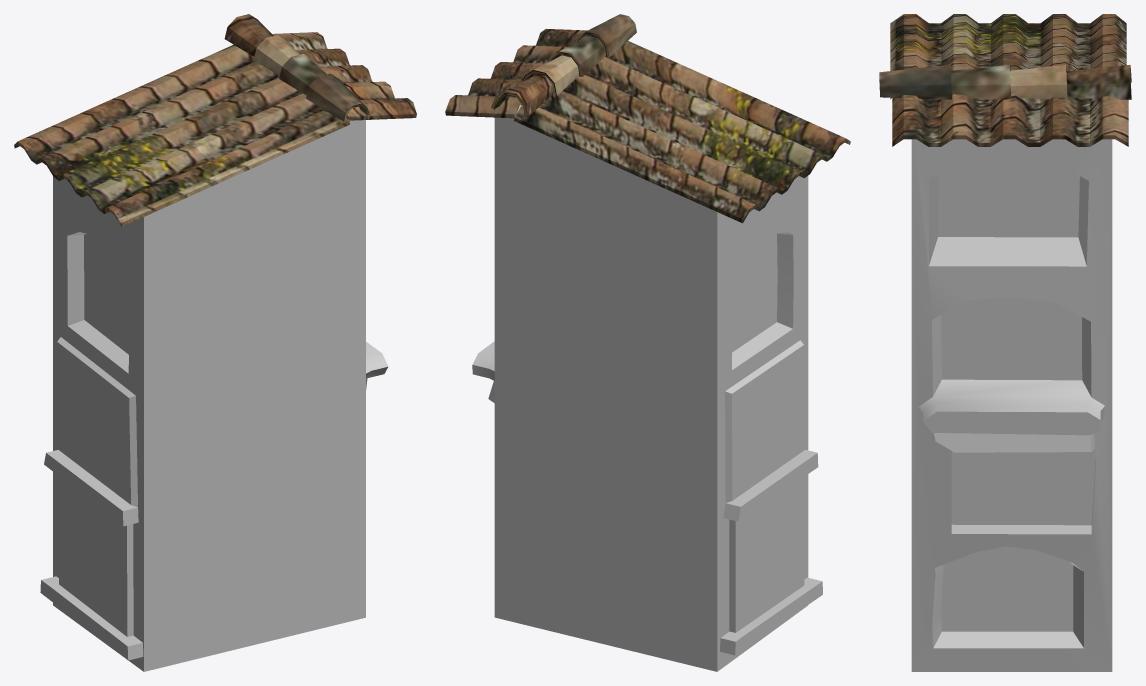
The model's file is nicho_grande_5.fbx.
3 views of the same model, side by side, from view 1: azimuth 30°, elevation 25°; view 2: azimuth 150°, elevation 25°; view 3: azimuth 270°, elevation 25° (orthographic). The views are drawn at different scales.
Visible parts, largest first — view 1: Cube.030, Cube.029, Cube.031, Cube.035, Cube.032, Cube.034, Cube.033; view 2: Cube.030, Cube.029, Cube.031, Cube.032, Cube.035, Cube.034, Cube.033; view 3: Cube.030, Cube.029, Cube.031, Cube.035, Cube.032, Cube.034, Cube.033.
Part boxes in pixels (left/top/right/bottom): Cube.030: left=40, top=120, right=388, bottom=671; Cube.029: left=14, top=44, right=349, bottom=226; Cube.031: left=272, top=32, right=416, bottom=120; Cube.035: left=306, top=73, right=369, bottom=121; Cube.032: left=224, top=14, right=273, bottom=56; Cube.034: left=279, top=54, right=326, bottom=95; Cube.033: left=253, top=35, right=299, bottom=75; Cube.030: left=472, top=105, right=822, bottom=671; Cube.029: left=514, top=41, right=850, bottom=223; Cube.031: left=445, top=28, right=587, bottom=118; Cube.032: left=491, top=74, right=553, bottom=116; Cube.035: left=574, top=14, right=636, bottom=57; Cube.034: left=548, top=35, right=605, bottom=76; Cube.033: left=522, top=55, right=579, bottom=95; Cube.030: left=911, top=139, right=1112, bottom=671; Cube.029: left=890, top=14, right=1126, bottom=99; Cube.031: left=892, top=94, right=1128, bottom=146; Cube.035: left=879, top=64, right=951, bottom=99; Cube.032: left=1066, top=65, right=1131, bottom=99; Cube.034: left=951, top=64, right=1011, bottom=99; Cube.033: left=1010, top=65, right=1067, bottom=99.
Size of the model in its own units: 380 by 650 by 252.
